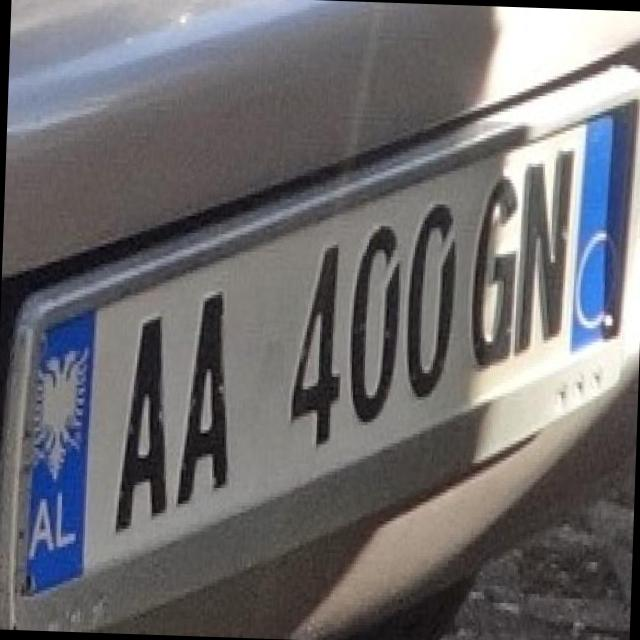0: (392, 182, 463, 404), (336, 211, 409, 423)
4: (278, 226, 352, 448)
A: (169, 269, 247, 512), (104, 294, 180, 534)
G: (456, 161, 526, 369)
N: (510, 139, 583, 348)
